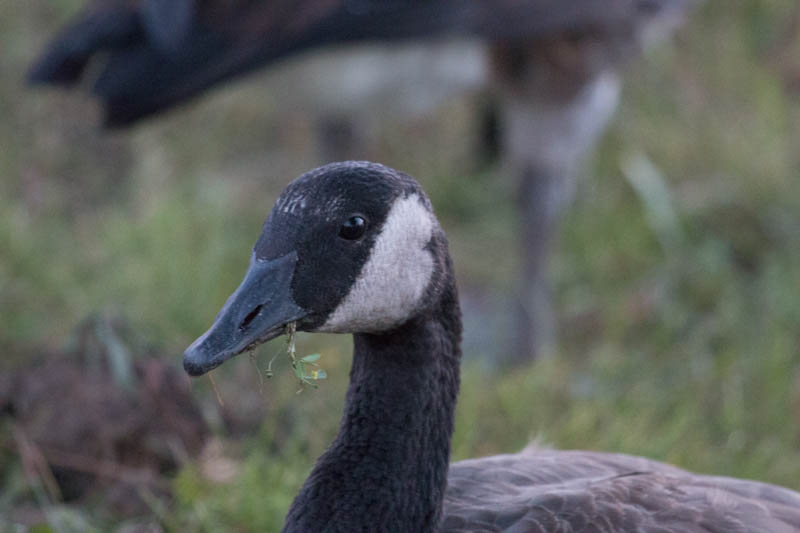goose-head: (181, 158, 458, 377)
